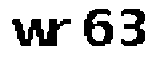3: (120, 6, 148, 51)
6: (81, 6, 115, 48)
r: (50, 12, 74, 50)
w: (11, 15, 52, 49)
